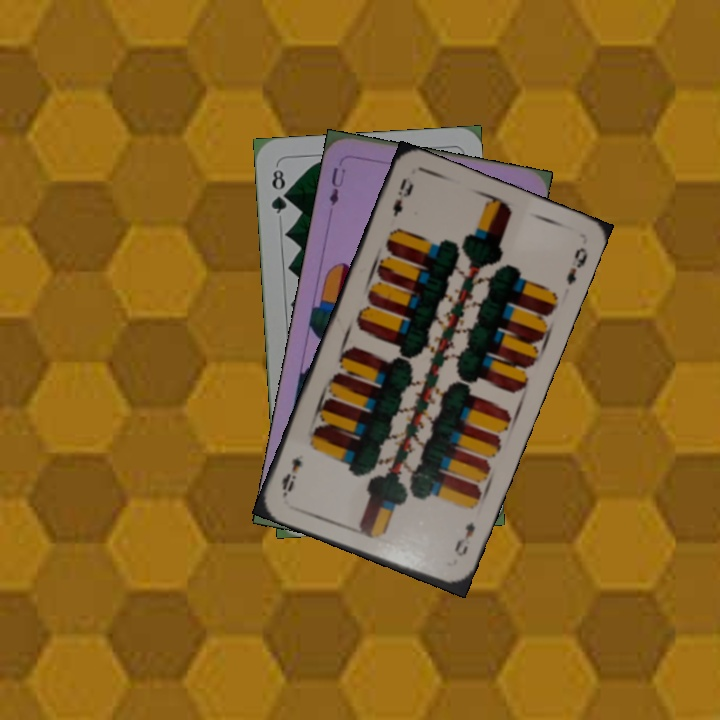E9: (388, 174, 416, 220), (450, 517, 478, 559)
EU: (325, 163, 349, 209)
G8: (267, 165, 291, 216)
